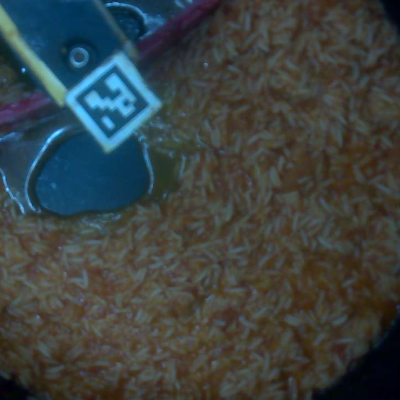stirrer: (2, 1, 171, 156)
